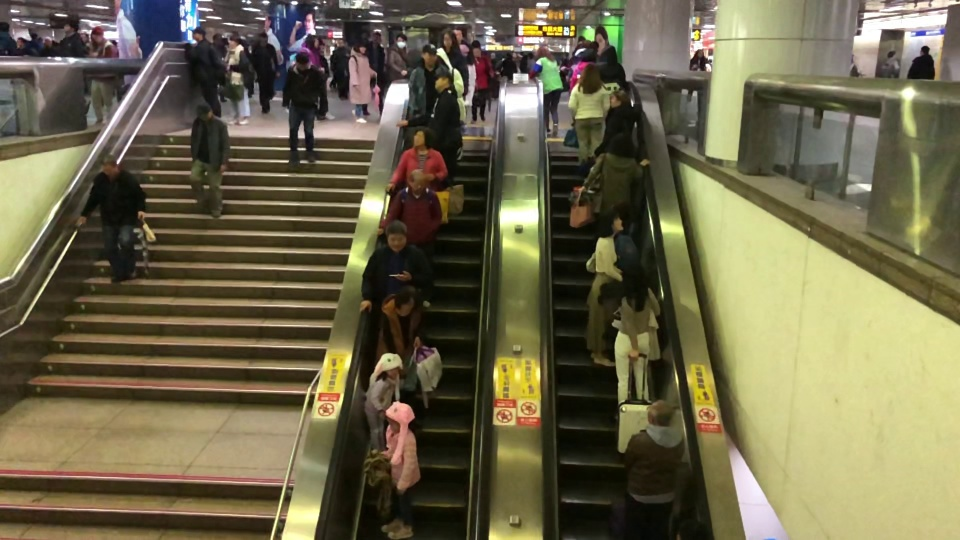person_head: (645, 398, 675, 429), (383, 218, 409, 253), (383, 402, 409, 434), (621, 264, 647, 295), (393, 284, 416, 319), (607, 132, 633, 159), (407, 167, 428, 194), (579, 62, 600, 89), (381, 352, 400, 380), (603, 211, 625, 234), (434, 69, 454, 94), (608, 89, 630, 109), (100, 153, 119, 176), (412, 125, 431, 148), (195, 100, 213, 122), (420, 43, 438, 64), (599, 45, 618, 64), (293, 51, 311, 70), (440, 29, 457, 49), (90, 25, 105, 45), (190, 24, 205, 42), (579, 48, 597, 62), (305, 33, 320, 49), (395, 31, 408, 49), (535, 45, 551, 59), (63, 21, 79, 34), (370, 30, 383, 46), (227, 35, 241, 49), (353, 41, 367, 54), (452, 28, 464, 43), (258, 32, 268, 47), (919, 45, 931, 57), (471, 45, 482, 57), (0, 21, 10, 32), (696, 48, 704, 60), (887, 51, 897, 59)
person_vbox: (622, 396, 686, 540), (376, 169, 442, 307), (77, 153, 147, 282), (396, 70, 463, 190), (613, 265, 661, 419), (583, 133, 651, 238), (359, 219, 430, 316), (361, 285, 423, 391), (582, 212, 624, 367), (376, 401, 421, 539), (282, 52, 329, 171), (189, 101, 231, 217), (567, 63, 611, 167), (383, 125, 449, 192), (365, 353, 403, 459), (183, 25, 226, 118), (409, 44, 455, 120), (528, 45, 564, 139), (296, 34, 335, 120), (593, 89, 641, 157), (56, 20, 90, 115), (87, 26, 115, 124), (223, 35, 251, 125), (347, 40, 377, 123), (250, 32, 280, 114), (440, 28, 469, 101), (361, 31, 385, 117), (453, 27, 476, 108), (471, 44, 494, 124), (597, 45, 626, 107), (566, 48, 599, 94), (385, 32, 410, 80), (685, 49, 707, 101), (905, 45, 936, 80), (0, 22, 18, 56), (879, 51, 901, 78)
